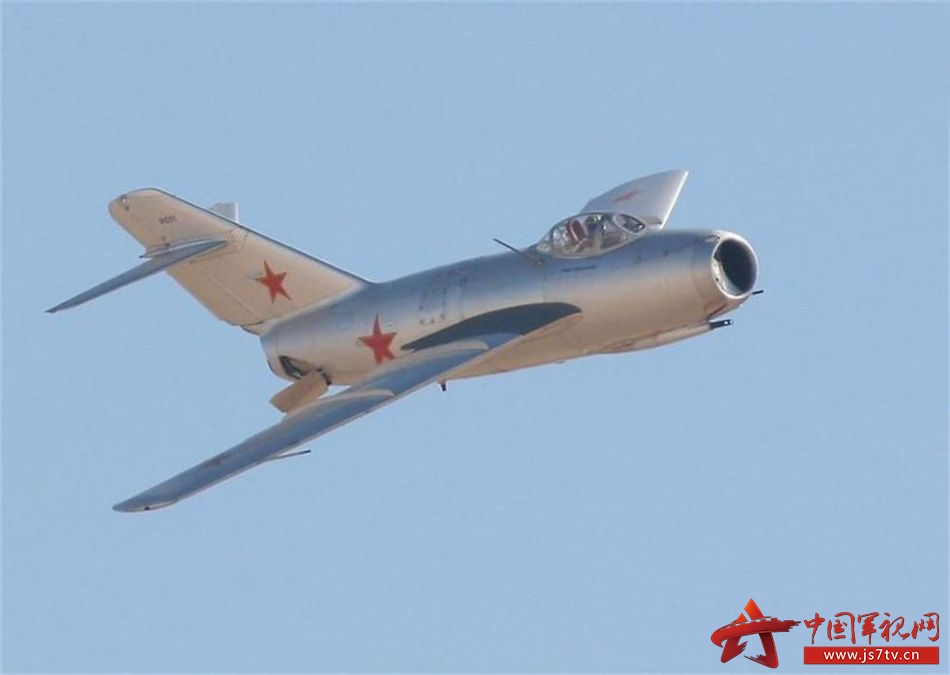airplane: (28, 168, 768, 522)
